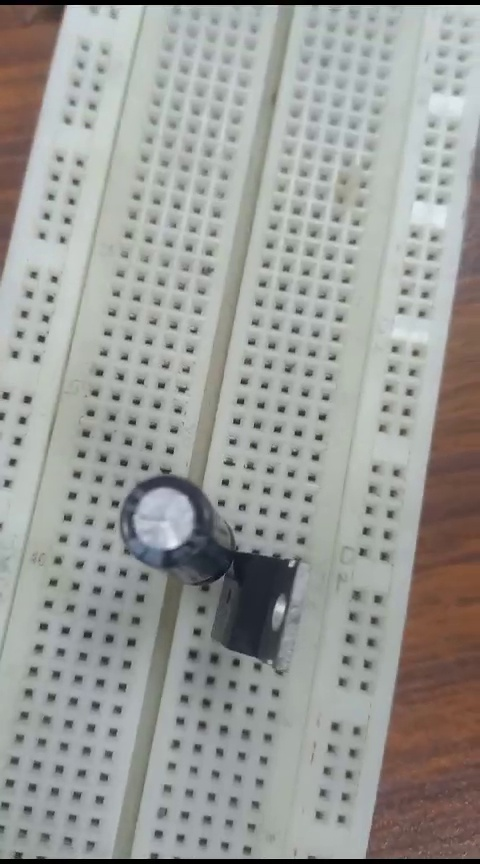capacitor: (112, 467, 231, 591)
voltage regulator: (218, 544, 307, 664)
